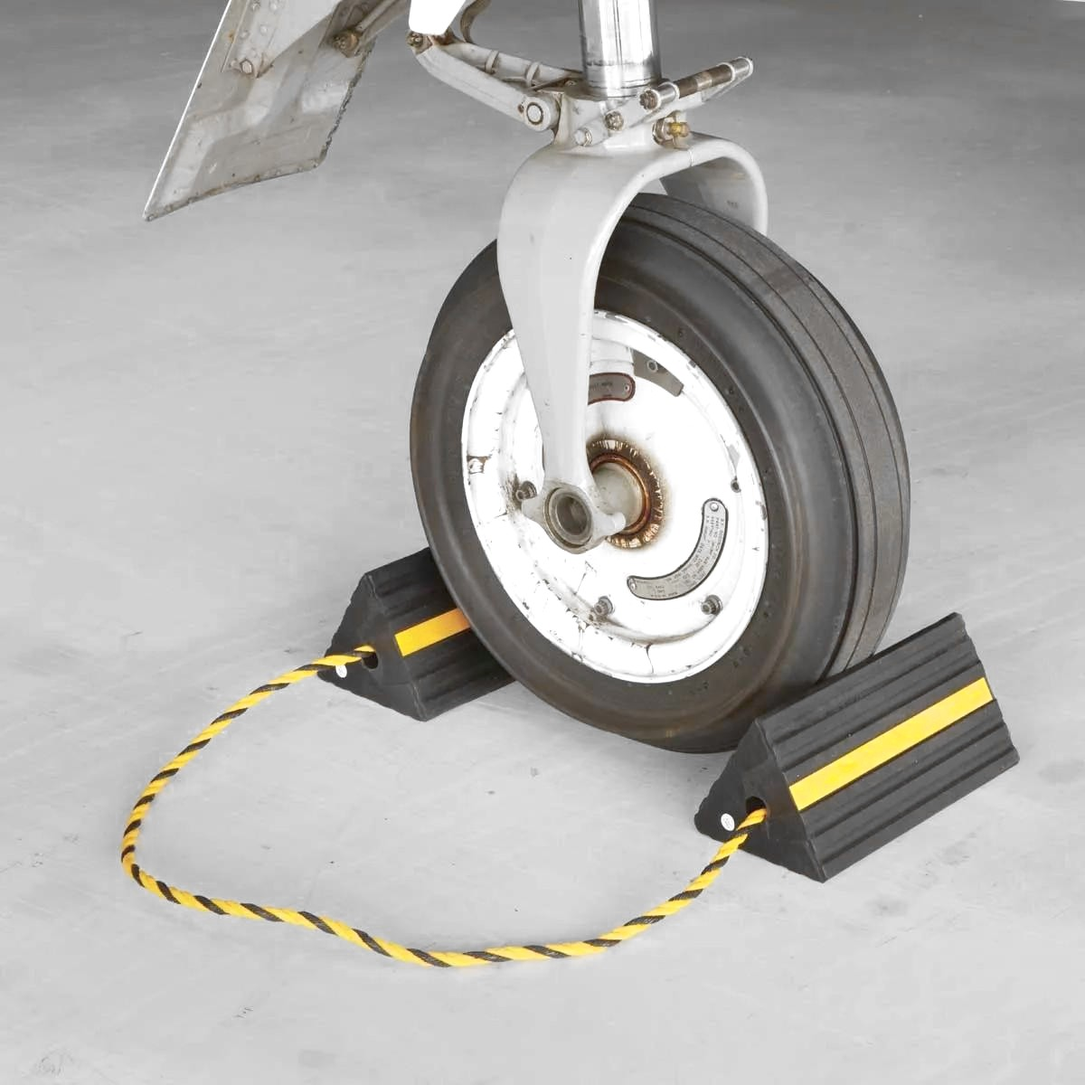chock: (684, 610, 1022, 886), (315, 511, 645, 728)
wheel: (407, 197, 902, 747)
